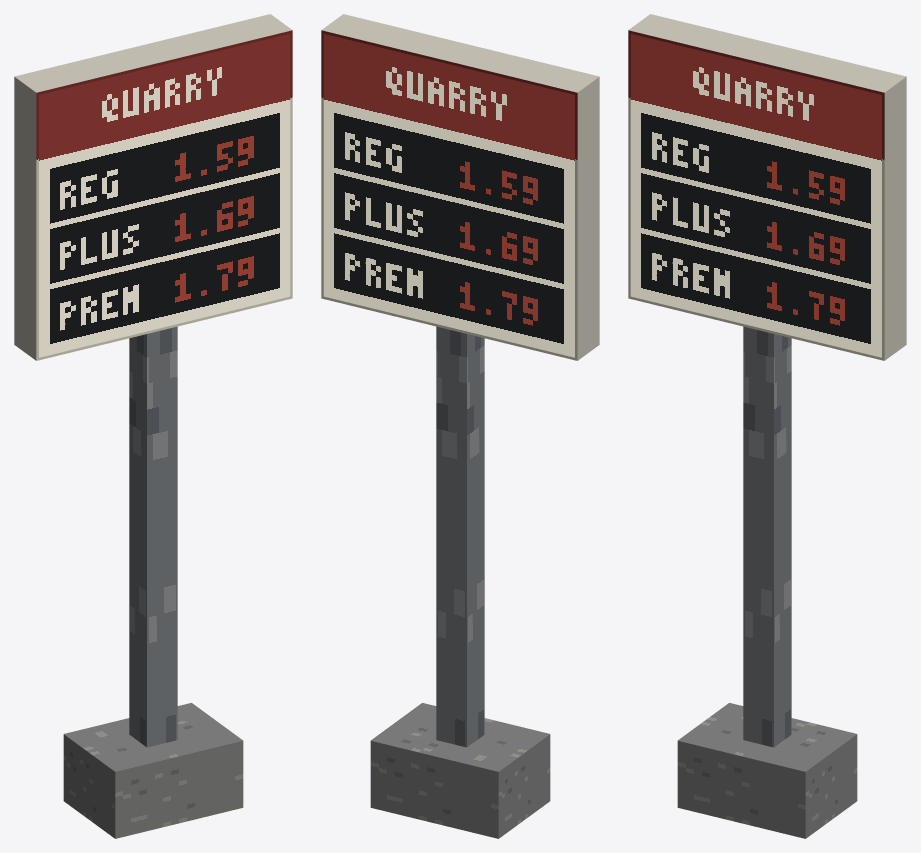
File: COM_PriceSign.glb
3 views of the same model, side by side, from view 1: azimuth 30°, elevation 25°; view 2: azimuth 150°, elevation 25°; view 3: azimuth 330°, elevation 25° (orthographic).
Parts seen in each view (by area): view 1: COM_PriceSign_Mesh; view 2: COM_PriceSign_Mesh; view 3: COM_PriceSign_Mesh.
Boxes of the visible parts, x1,y1,x2,y2 form: COM_PriceSign_Mesh: [14, 14, 292, 838]; COM_PriceSign_Mesh: [321, 14, 599, 838]; COM_PriceSign_Mesh: [628, 14, 906, 838].
Size of what is drawn, in the model's own units: 2 by 5.6 by 0.7.
2 materials, 2 textured.
